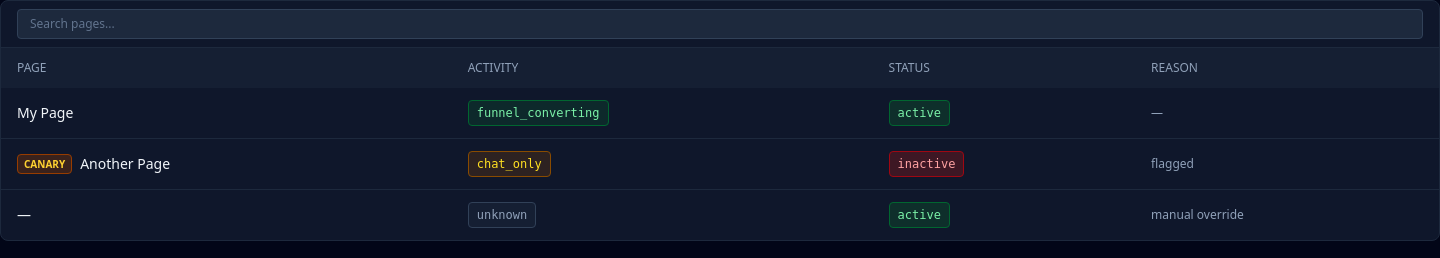
Test case: SearchablePageTable › filters rows based on search query
Type "Another" into the field with placeholder "Search pages..." at (720, 24), box 17,9 -> 1423,39
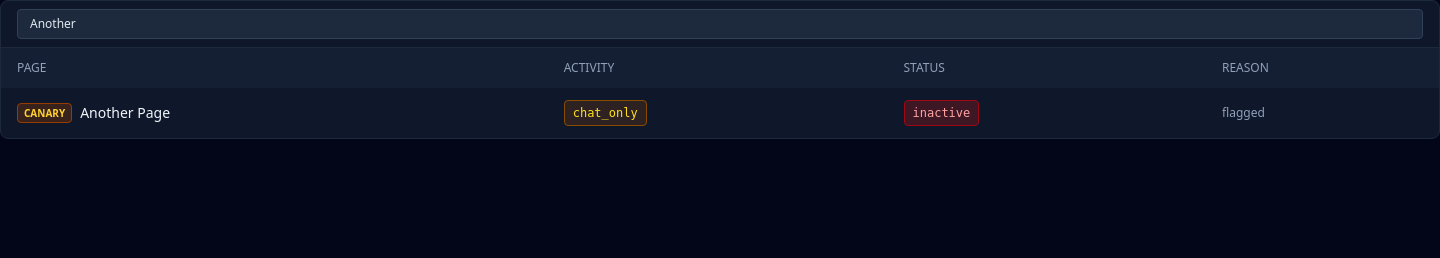
Check: the link "Another Page" is shown, box 80,103 -> 170,123
Check: the link "My Page" is gone
